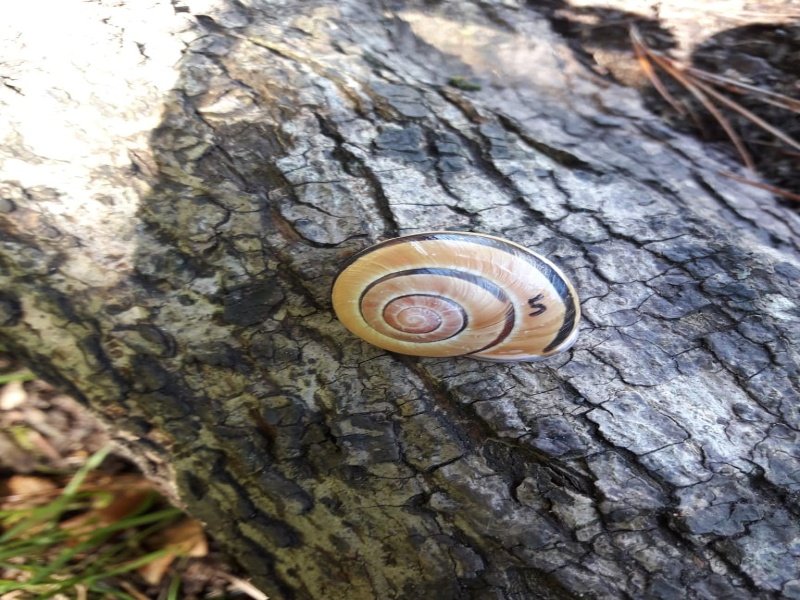snail_P_M: (330, 226, 596, 383)
